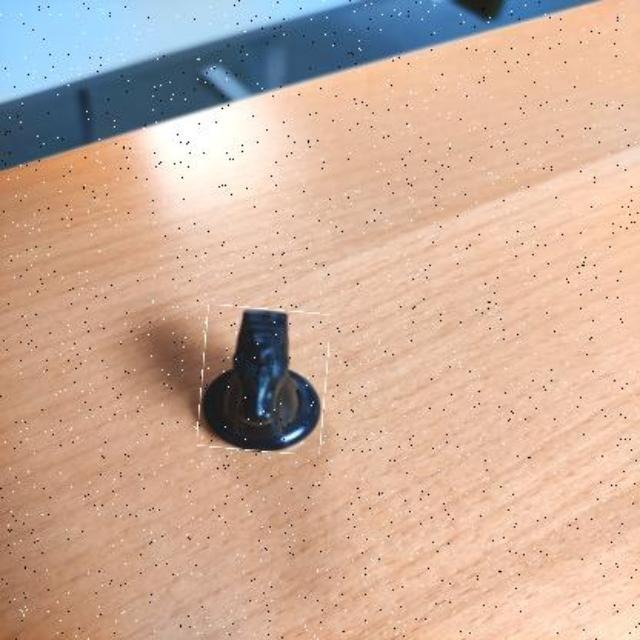black-knight: (202, 307, 328, 453)
